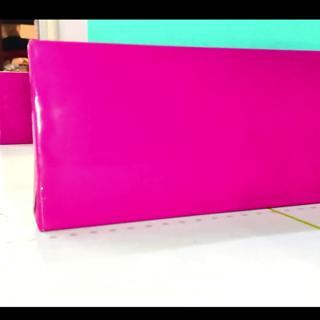xparking: (39, 52, 319, 232), (4, 78, 30, 146)
